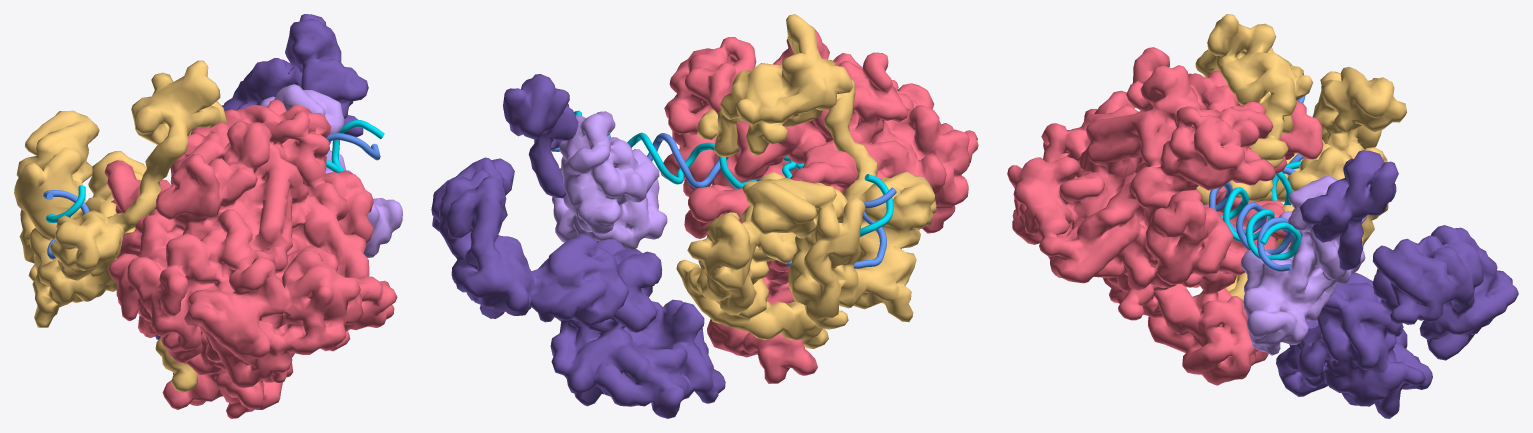
Rendered from pol2-pic-5iy7.glb.
3 views of the same model, side by side, from view 1: azimuth 30°, elevation 25°; view 2: azimuth 150°, elevation 25°; view 3: azimuth 270°, elevation 25° (orthographic). The views are drawn at different scales.
Parts seen in each view (by area): view 1: pic_pol2, pic_factors, pic_tfiih, pic_xpb, pic_dna_a, pic_dna_b; view 2: pic_factors, pic_tfiih, pic_pol2, pic_xpb, pic_dna_a, pic_dna_b; view 3: pic_pol2, pic_tfiih, pic_factors, pic_xpb, pic_dna_a, pic_dna_b.
Boxes of the visible parts, x1=… form: pic_pol2: x1=104, y1=99, x2=397, y2=418; pic_factors: x1=14, y1=60, x2=226, y2=392; pic_tfiih: x1=155, y1=14, x2=368, y2=339; pic_xpb: x1=260, y1=84, x2=402, y2=257; pic_dna_a: x1=46, y1=120, x2=384, y2=222; pic_dna_b: x1=43, y1=133, x2=380, y2=259; pic_factors: x1=676, y1=14, x2=936, y2=348; pic_tfiih: x1=431, y1=74, x2=725, y2=418; pic_pol2: x1=660, y1=29, x2=978, y2=383; pic_xpb: x1=552, y1=111, x2=667, y2=250; pic_dna_a: x1=574, y1=110, x2=893, y2=237; pic_dna_b: x1=551, y1=133, x2=896, y2=268; pic_pol2: x1=1007, y1=47, x2=1323, y2=385; pic_tfiih: x1=1276, y1=150, x2=1518, y2=418; pic_factors: x1=1195, y1=14, x2=1406, y2=309; pic_xpb: x1=1240, y1=176, x2=1367, y2=355; pic_dna_a: x1=1221, y1=161, x2=1301, y2=260; pic_dna_b: x1=1204, y1=96, x2=1305, y2=271.
Size of the model in its own units: 4.78 by 4.2 by 5.56.
